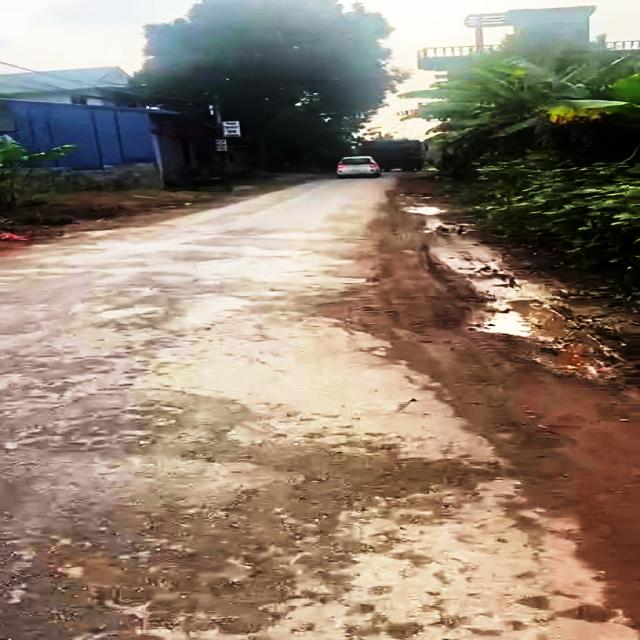pothole: (462, 288, 606, 382)
